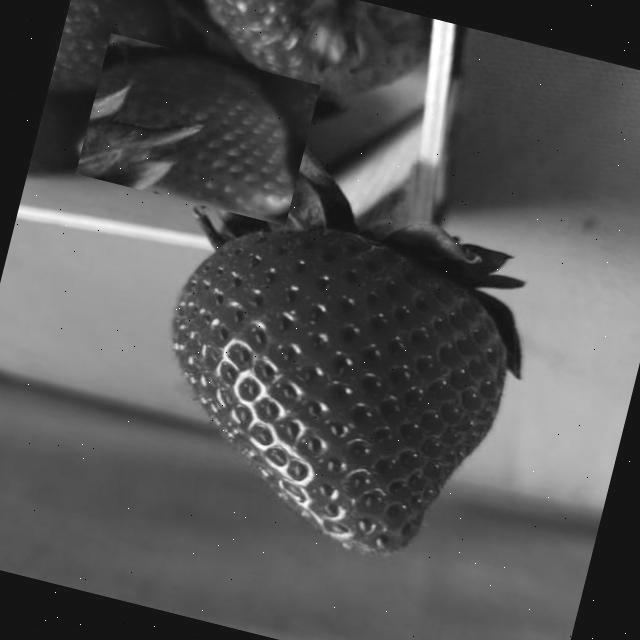ripe: (125, 194, 532, 576), (75, 32, 320, 226)
